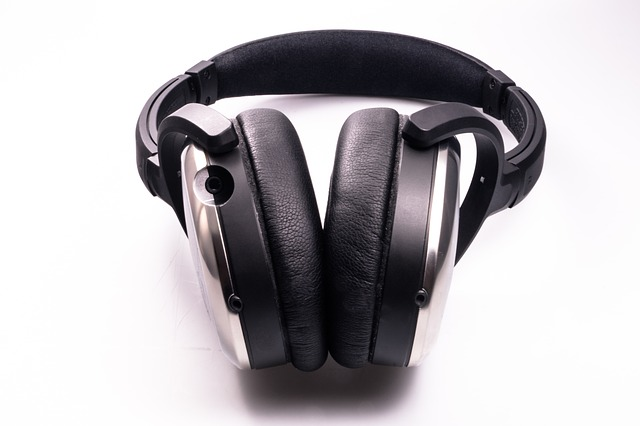headphones: (136, 30, 547, 373)
